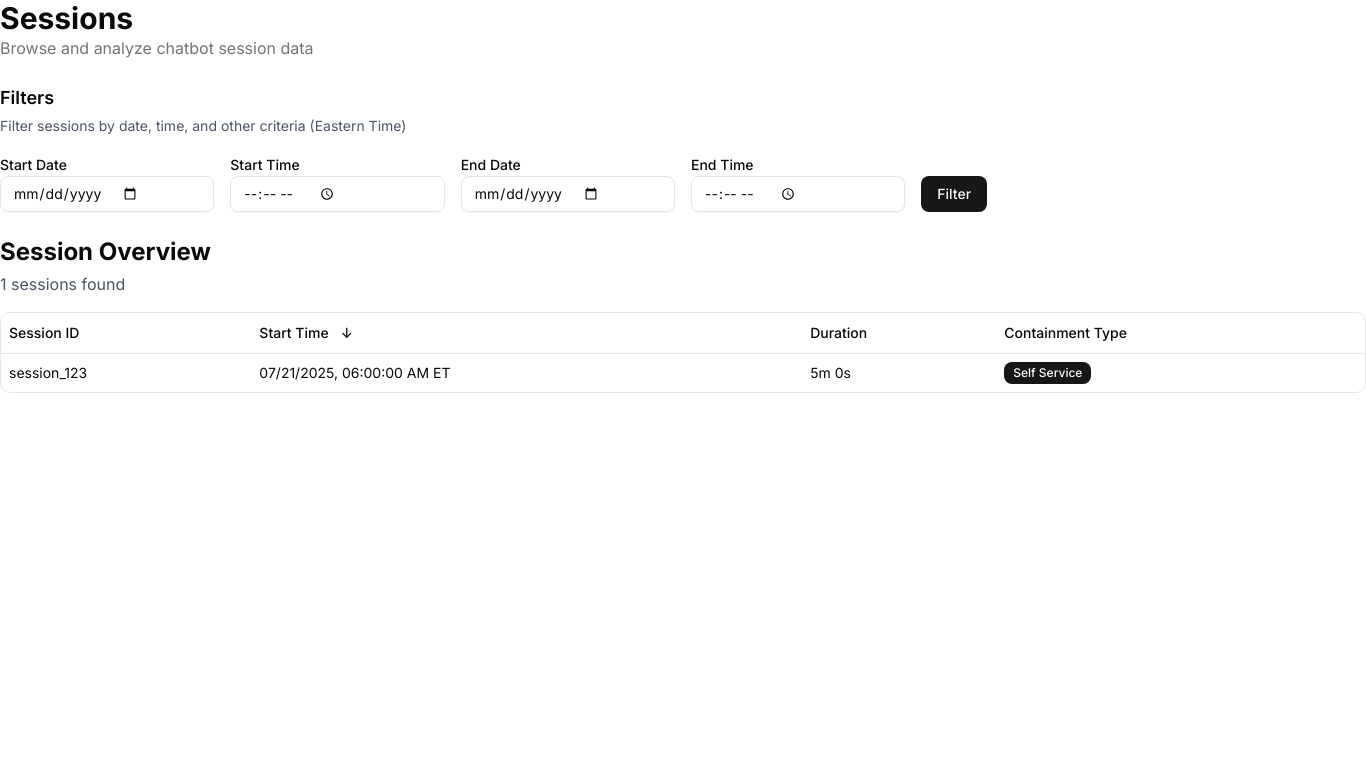
Test case: Sessions Page › opens session details dialog when table row is clicked
The width and height of the screenshot is (1366, 768).
Expected: the heading "Sessions" is shown, [0,0,133,36]
Click on a session row
Step 1. Click the row "session_123 07/21/2025, 06:00:00 AM ET 5m 0s Self Service" → (48, 372), box [1,353,1365,392]
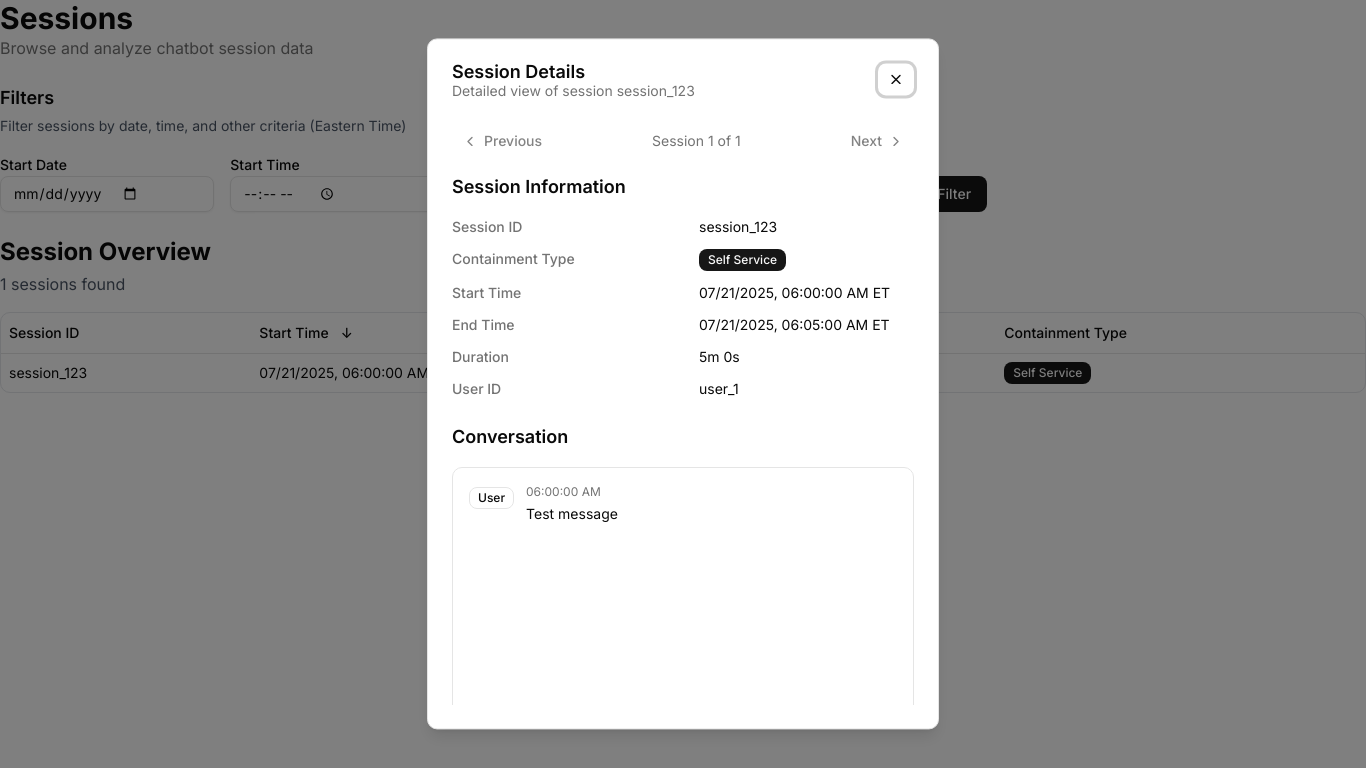
Expected: the text "session_123" is shown 2 times, [1,353,251,392]; [699,218,777,235]
Now the heading "Session Details" is shown, box [452,61,585,82]
Now the text "Session 1 of 1" is shown, box [652,132,741,149]
